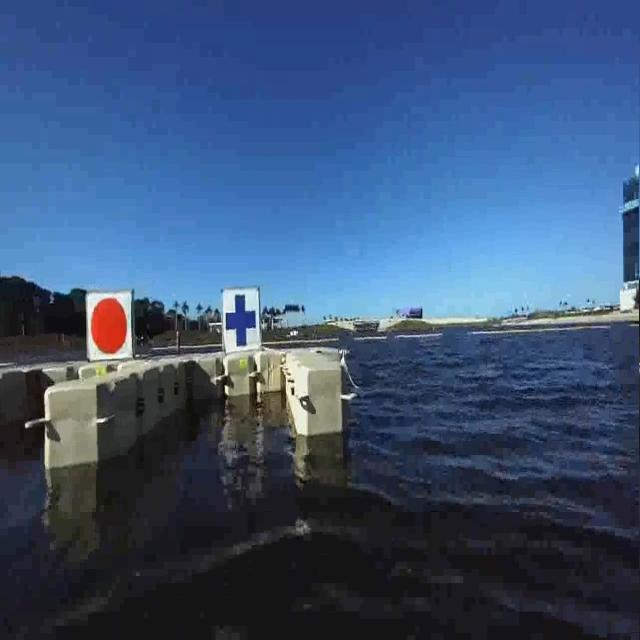blue-cross: (220, 283, 265, 360)
red-dot: (84, 284, 134, 364)
